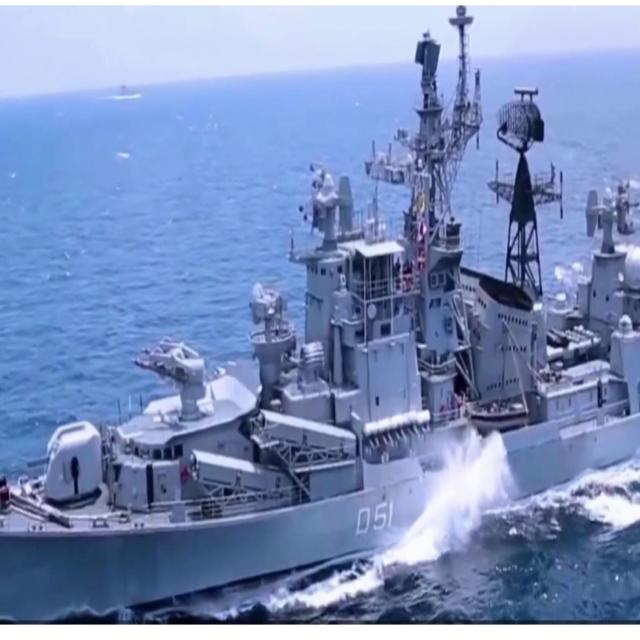OCR: (346, 492, 393, 543)
